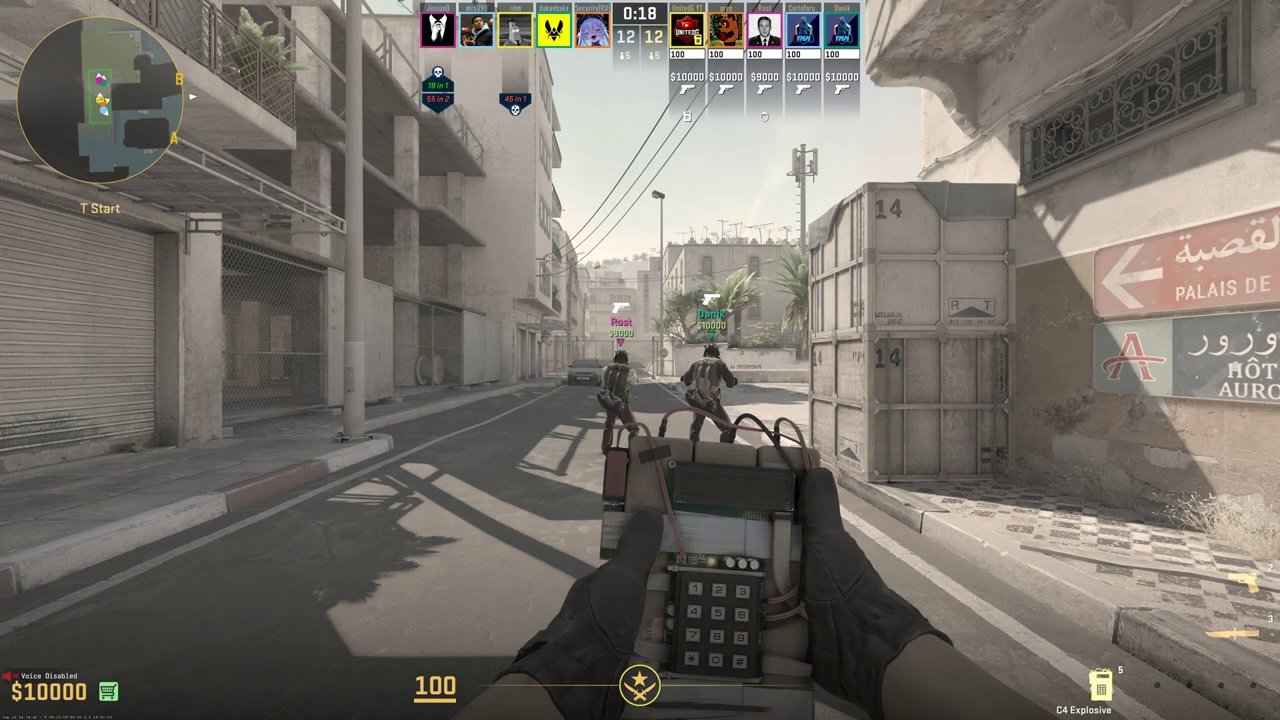Terrorist: (687, 343, 737, 443), (598, 350, 637, 449)
